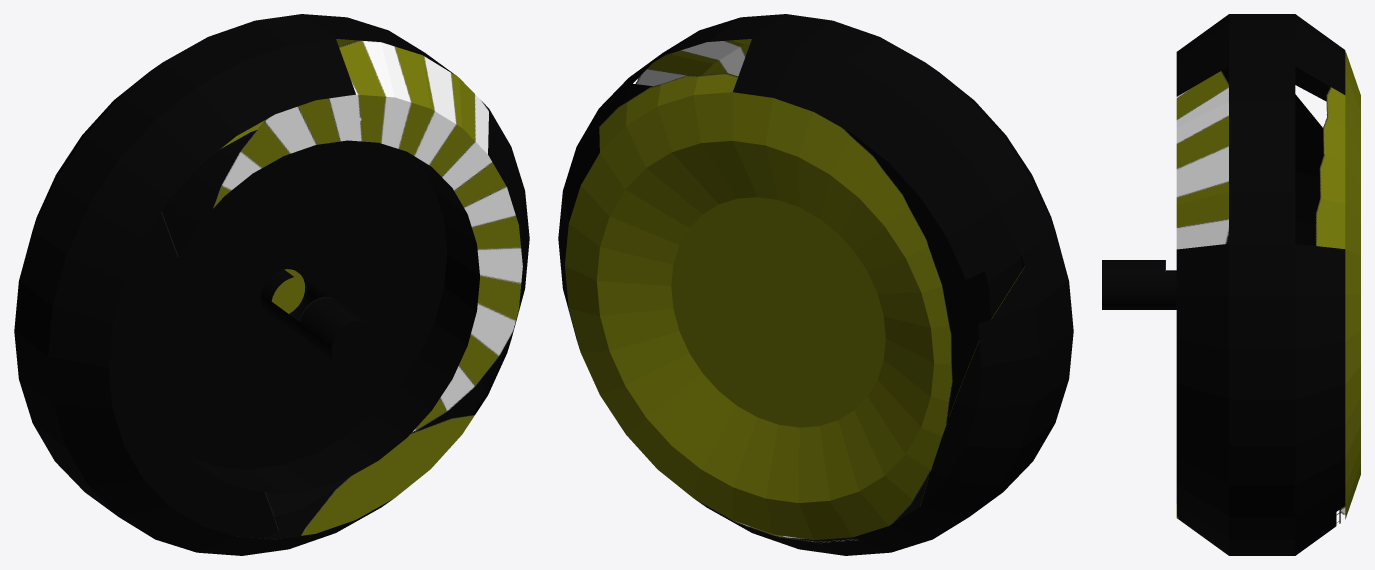
File: rueda.obj
The picture shows the model from 3 angles, left to right: view 1: azimuth 30°, elevation 25°; view 2: azimuth 150°, elevation 25°; view 3: azimuth 270°, elevation 25°; orthographic projection. The views are drawn at different scales.
Visible parts, largest first — view 1: rueda_Cylinder; view 2: rueda_Cylinder; view 3: rueda_Cylinder.
Part boxes in pixels (bbox=[...]): rueda_Cylinder: bbox=[14, 14, 529, 555]; rueda_Cylinder: bbox=[558, 14, 1073, 555]; rueda_Cylinder: bbox=[1102, 14, 1360, 555].
Size of the model in its own units: 2.32 by 2.32 by 1.11.
